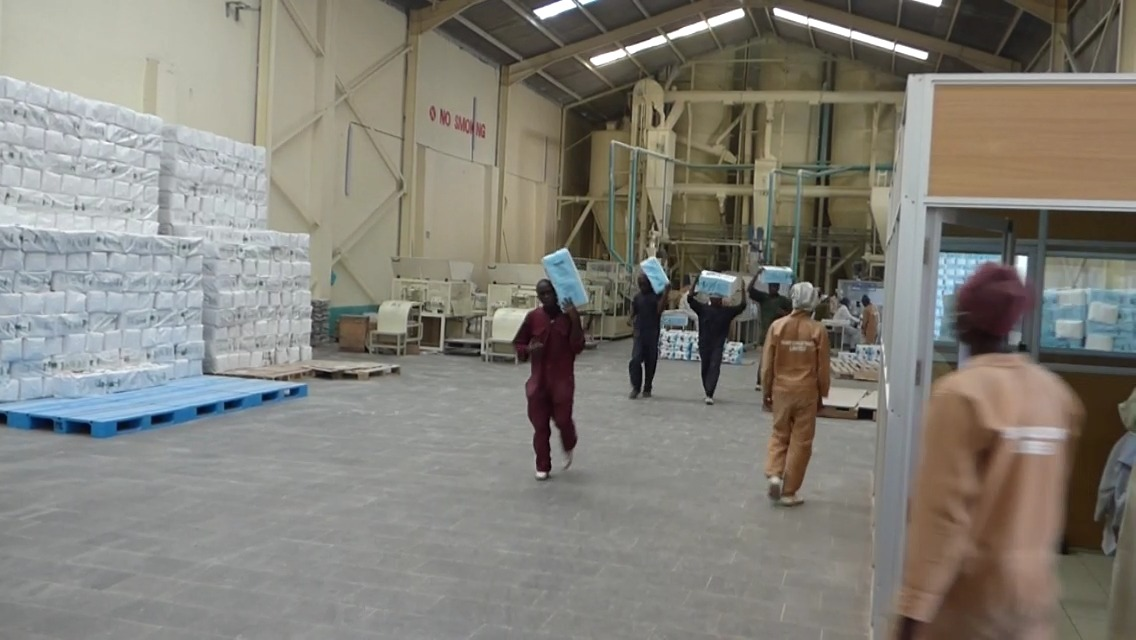wheat_flour_blue_label: (547, 244, 589, 308)
